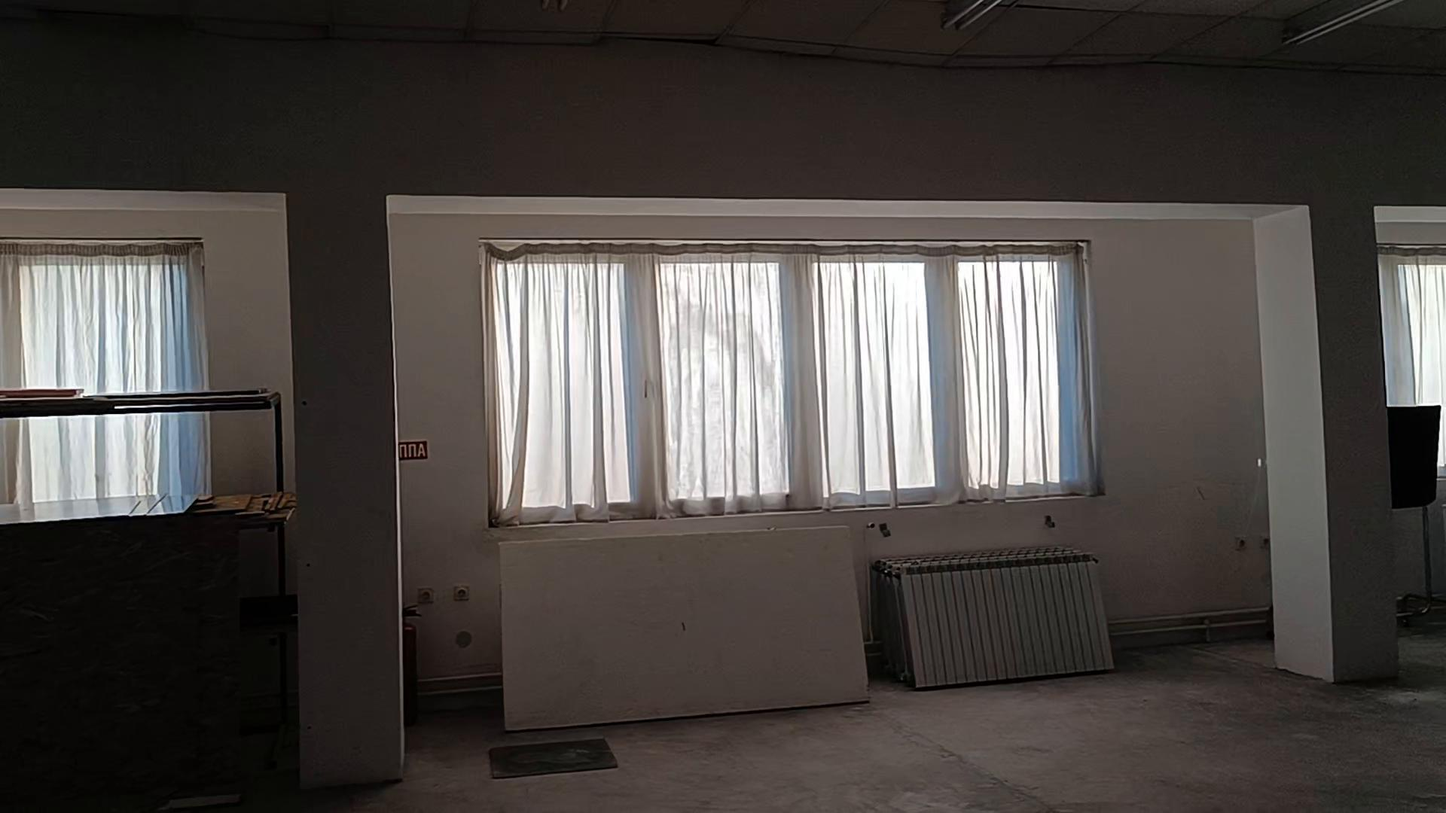ceiling: (0, 0, 1445, 74)
floor: (246, 624, 1445, 812)
wall: (0, 14, 1445, 787), (388, 202, 1263, 678), (1253, 203, 1398, 682), (1, 187, 289, 389)
